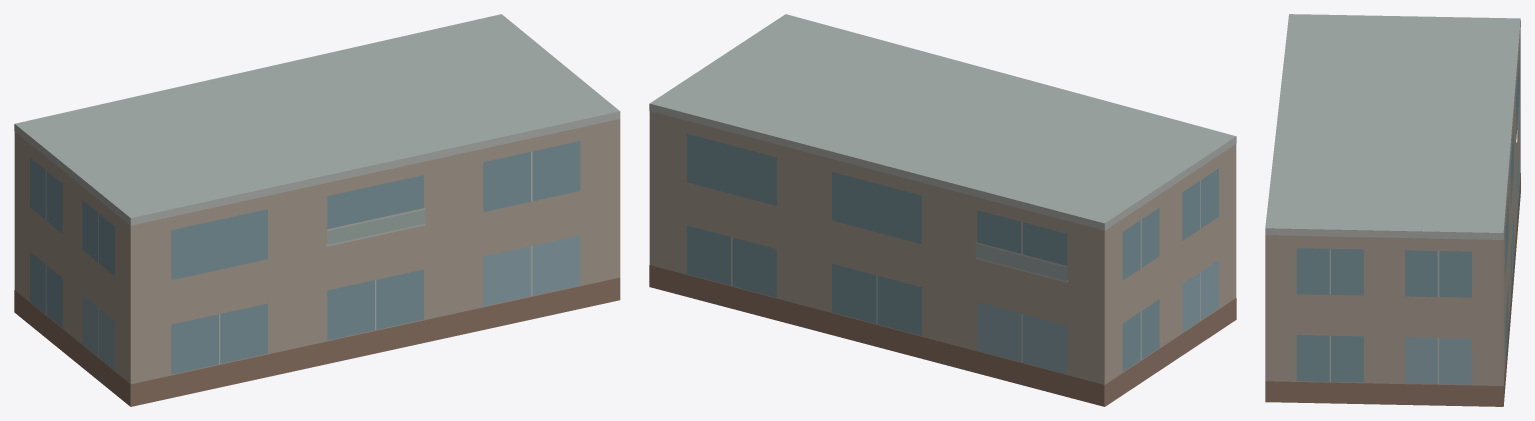
Rendered from survey-upis-32893516.glb.
3 views of the same model, side by side, from view 1: azimuth 30°, elevation 25°; view 2: azimuth 150°, elevation 25°; view 3: azimuth 270°, elevation 25° (orthographic). The views are drawn at different scales.
Parts seen in each view (by area): view 1: survey-upis-32893516.tmp; view 2: survey-upis-32893516.tmp; view 3: survey-upis-32893516.tmp.
Boxes of the visible parts, box(x1,y1,x2,y2) form: survey-upis-32893516.tmp: box(14, 14, 620, 406); survey-upis-32893516.tmp: box(649, 14, 1236, 406); survey-upis-32893516.tmp: box(1265, 14, 1520, 406).
Size of the model in its own units: 16.5 by 6.1 by 8.14.
